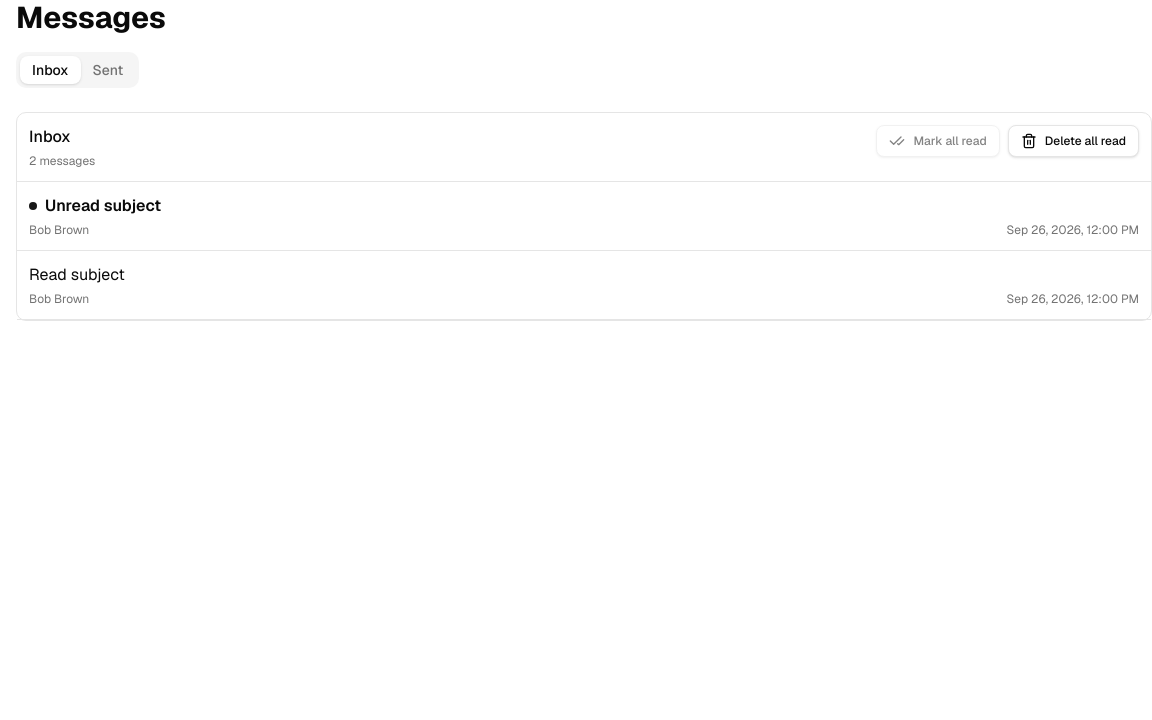
MessagesPage delete controls › loads and shows the message body when a message is opened
Click the button "Unread subject Bob Brown Sep 26, 2026, 12:00 PM" at (103, 206), box left=17, top=182, right=1151, bottom=251
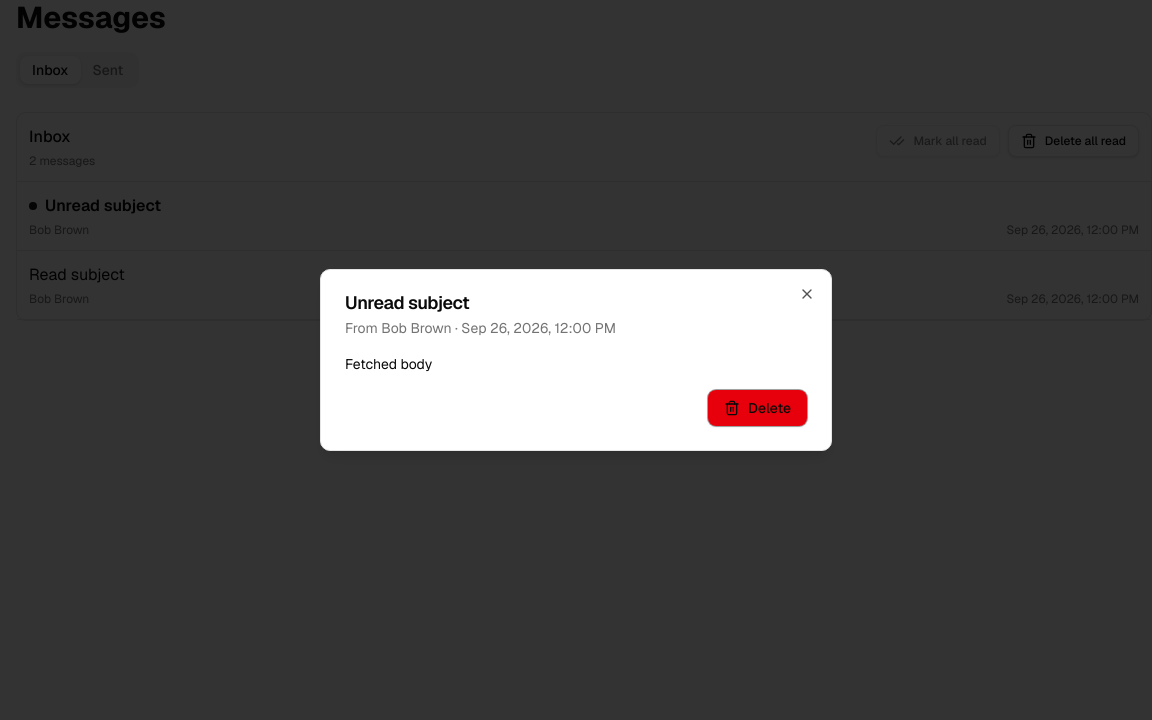
Expected: the text "Fetched body" is shown, left=345, top=355, right=432, bottom=373
